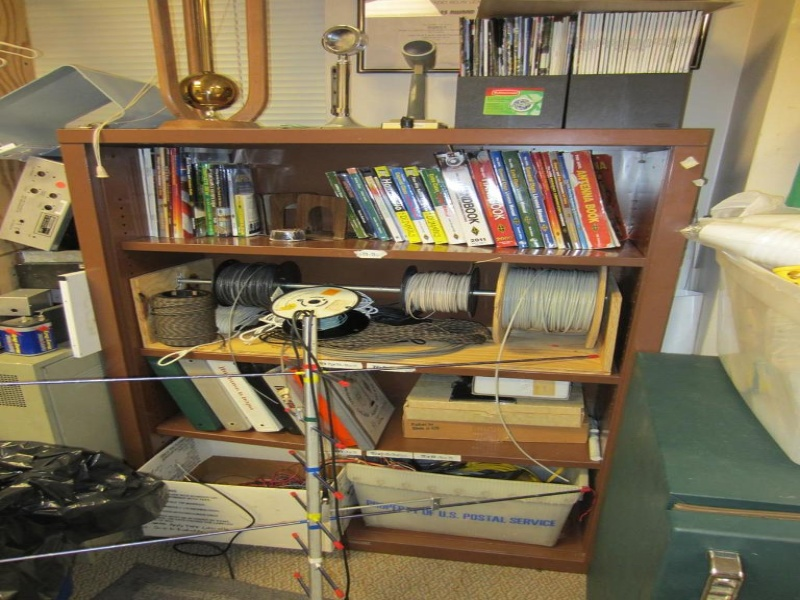book: (552, 147, 633, 251), (390, 156, 448, 246)
